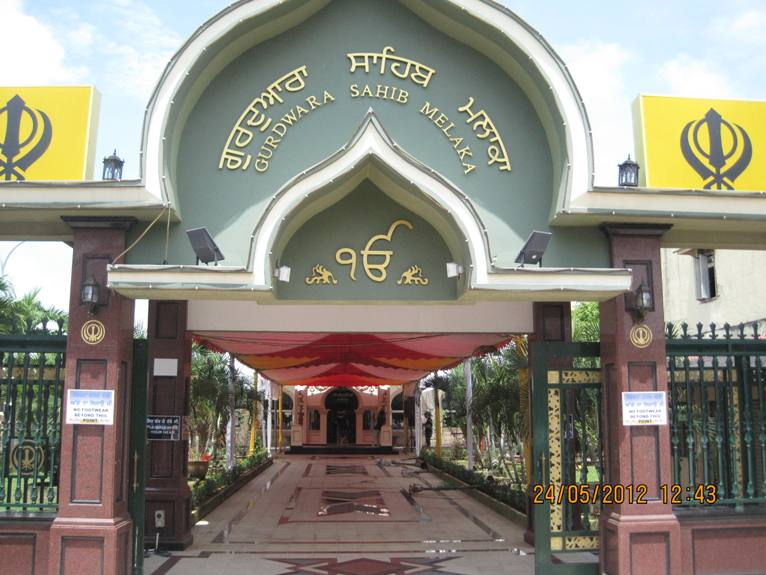Gurdwara: (4, 6, 603, 544)
